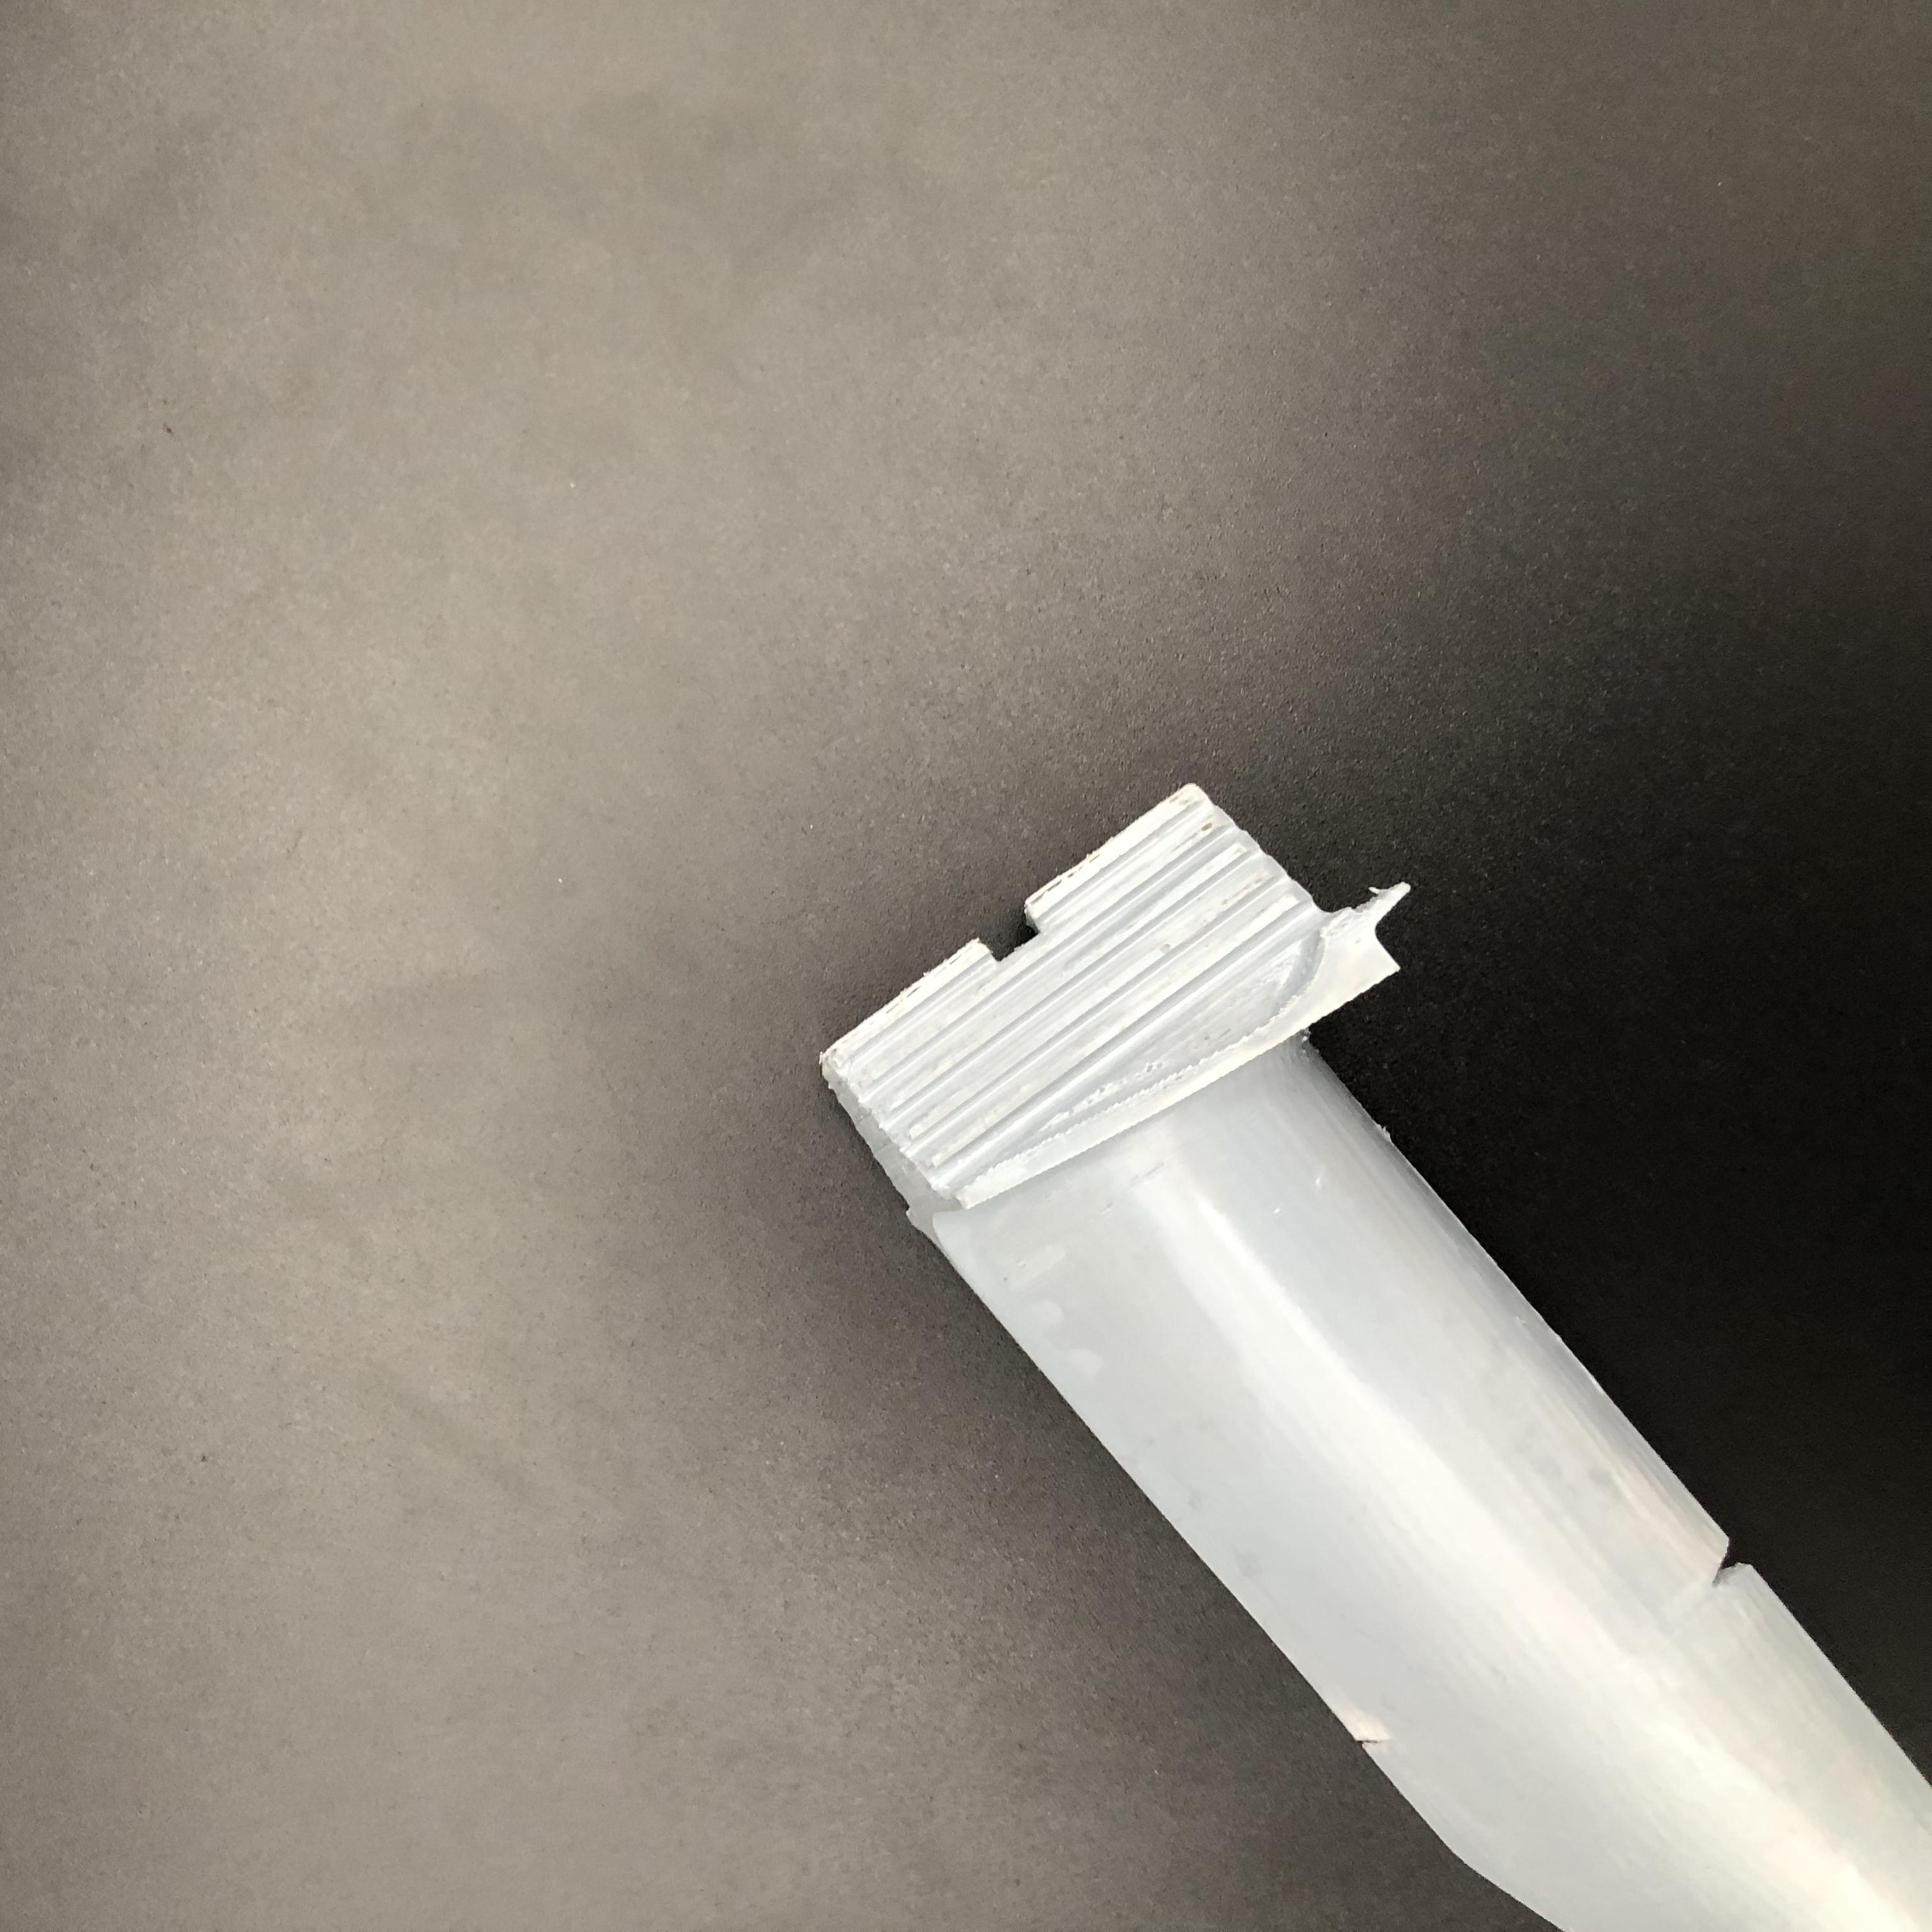groove: (1704, 1529, 1759, 1601), (1350, 1720, 1405, 1764)
